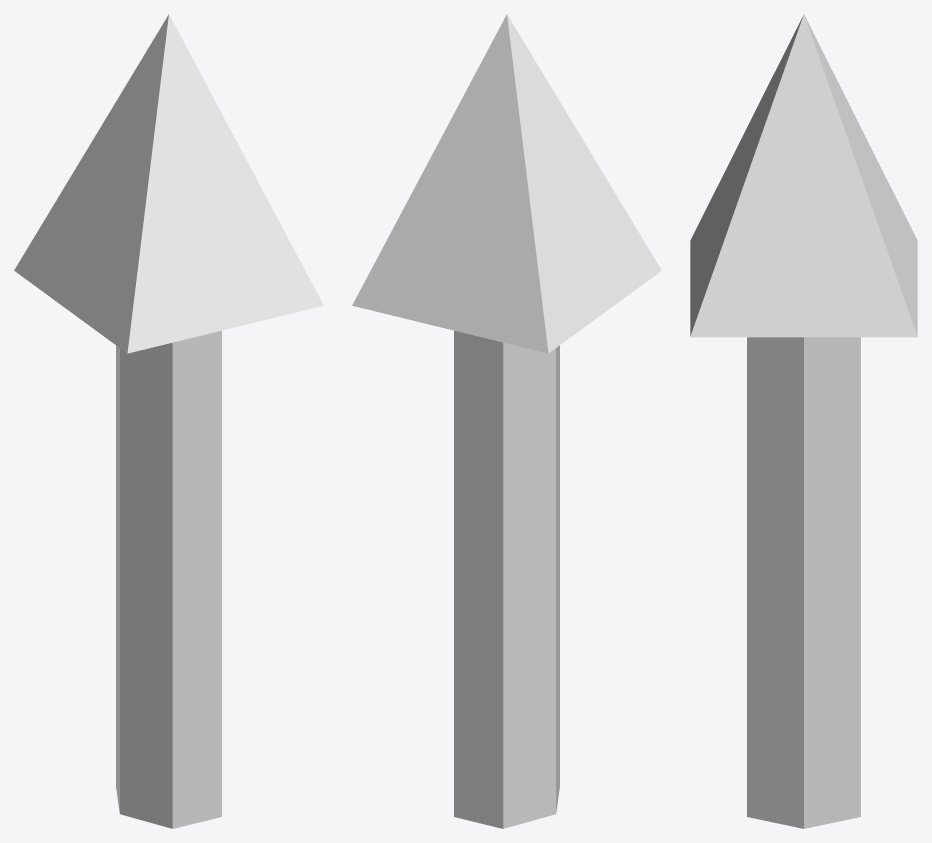
Rendered from Position Gizmo.fbx.
The picture shows the model from 3 angles, left to right: view 1: azimuth 30°, elevation 25°; view 2: azimuth 150°, elevation 25°; view 3: azimuth 270°, elevation 25°; orthographic projection.
Visible parts, largest first — view 1: pyramid, cylinder; view 2: pyramid, cylinder; view 3: cylinder, pyramid.
Boxes of the visible parts, x1=… form: pyramid: x1=14, y1=14, x2=323, y2=353; cylinder: x1=116, y1=330, x2=221, y2=828; pyramid: x1=352, y1=14, x2=661, y2=353; cylinder: x1=454, y1=330, x2=559, y2=828; cylinder: x1=747, y1=337, x2=860, y2=828; pyramid: x1=690, y1=14, x2=917, y2=337.
Size of the model in its own units: 37.5 by 144 by 37.5.
Materials: 1 (1 with a texture image).
